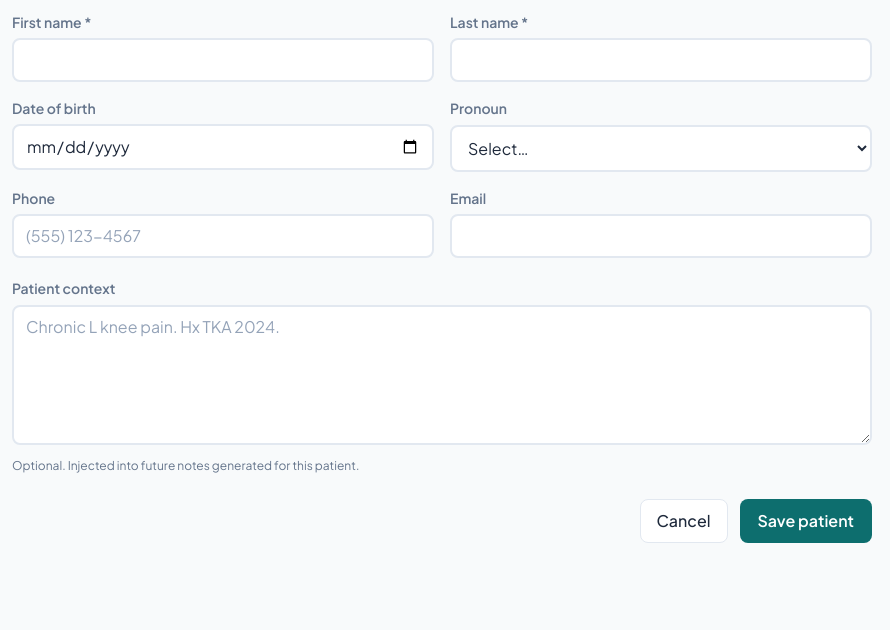
PatientCreateForm › displays curated error via mapPatientError on server failure
Type "Jane" into the field labelled "First name *" at coordinates (223, 60), box x1=12 y1=38 x2=434 y2=82
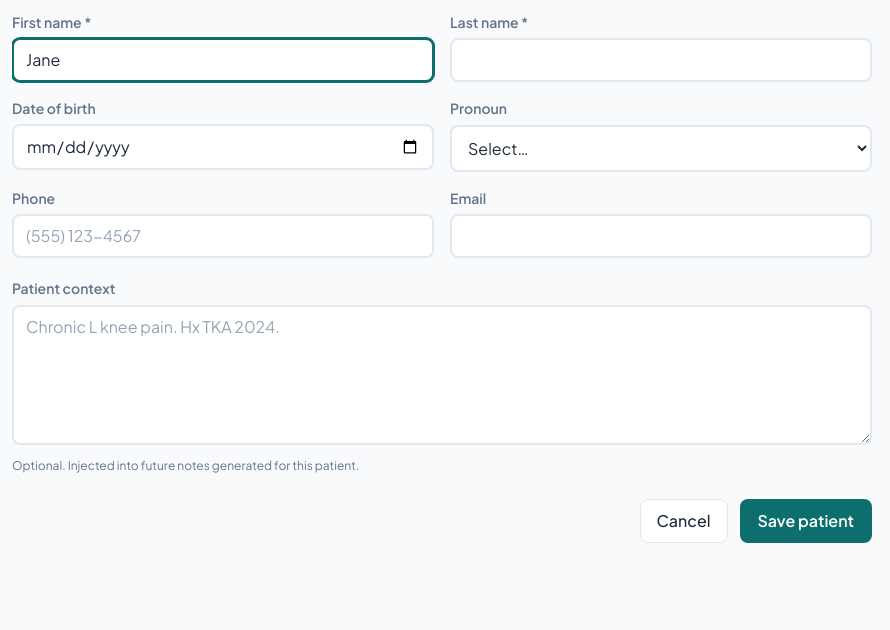
Type "Doe" into the field labelled "Last name *" at coordinates (661, 60), box x1=450 y1=38 x2=872 y2=82
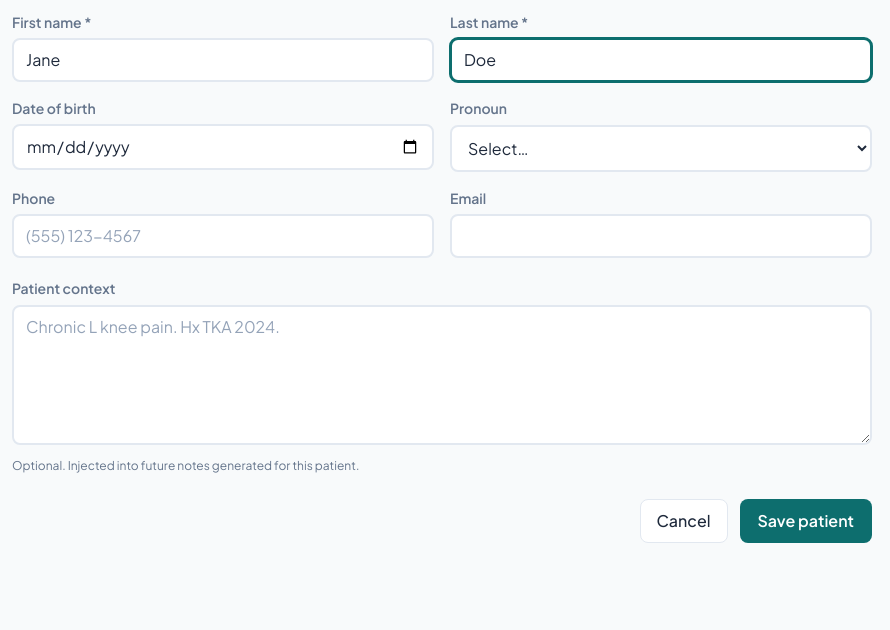
Click the button "Save patient" at coordinates (806, 521), box x1=740 y1=499 x2=872 y2=543
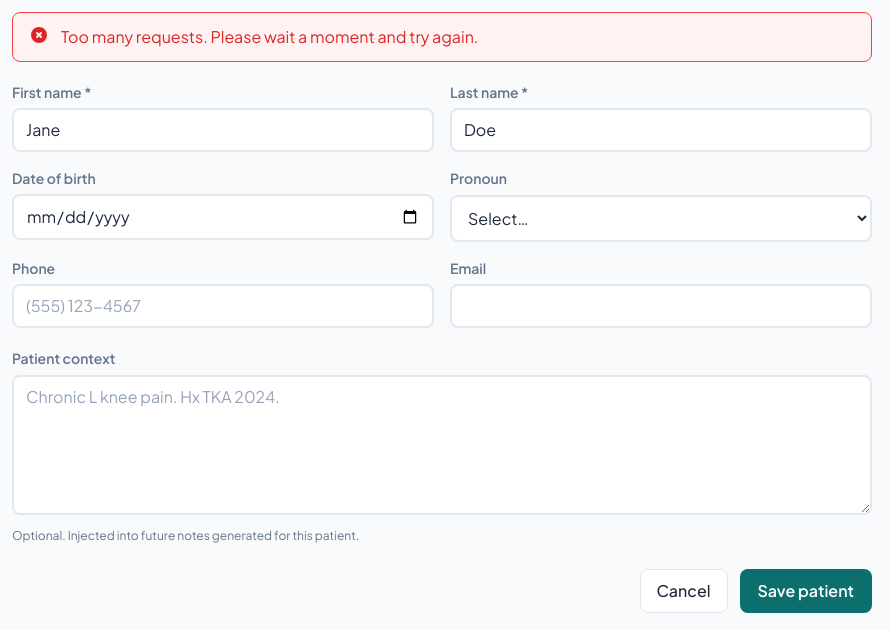
Now the text "Too many requests. Please wait a moment and try again." is shown, box x1=61 y1=26 x2=478 y2=47
